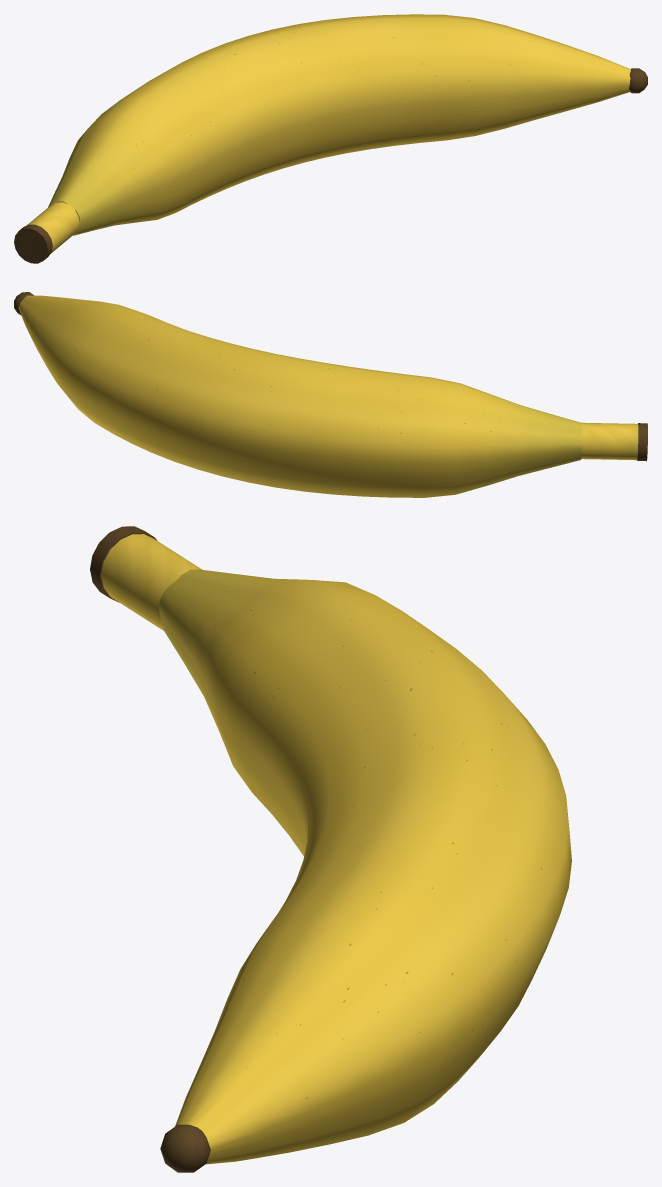
Rendered from banana.glb.
The picture shows the model from 3 angles, top to bottom: view 1: azimuth 30°, elevation 25°; view 2: azimuth 150°, elevation 25°; view 3: azimuth 270°, elevation 25°; orthographic projection. The views are drawn at different scales.
Visible parts, largest first — view 1: Curved ripe banana skin with five subtle longitudinal ribs, Short seated banana neck, Dry cut crown face, Dried blossom tip; view 2: Curved ripe banana skin with five subtle longitudinal ribs, Short seated banana neck, Dry cut crown face; view 3: Curved ripe banana skin with five subtle longitudinal ribs, Short seated banana neck, Dried blossom tip, Dry cut crown face.
Boxes of the visible parts, <box> form: Curved ripe banana skin with five subtle longitudinal ribs: <box>48,14,630,235</box>; Short seated banana neck: <box>27,202,79,253</box>; Dry cut crown face: <box>14,224,52,263</box>; Dried blossom tip: <box>629,68,647,93</box>; Curved ripe banana skin with five subtle longitudinal ribs: <box>18,295,582,497</box>; Short seated banana neck: <box>580,422,638,460</box>; Dry cut crown face: <box>637,423,647,461</box>; Curved ripe banana skin with five subtle longitudinal ribs: <box>159,569,571,1164</box>; Short seated banana neck: <box>101,534,202,630</box>; Dried blossom tip: <box>160,1124,210,1172</box>; Dry cut crown face: <box>90,526,157,602</box>.
Bounding box in the file's own units: 0.1864 × 0.0342 × 0.0623.
2 materials, 2 textured.
